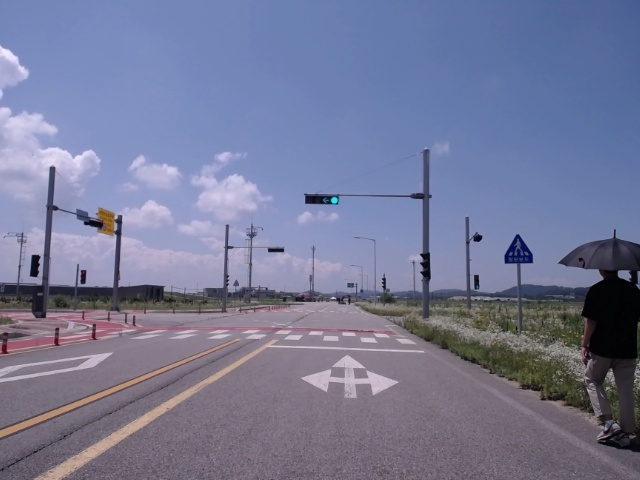all_green_4: (305, 193, 340, 205)
